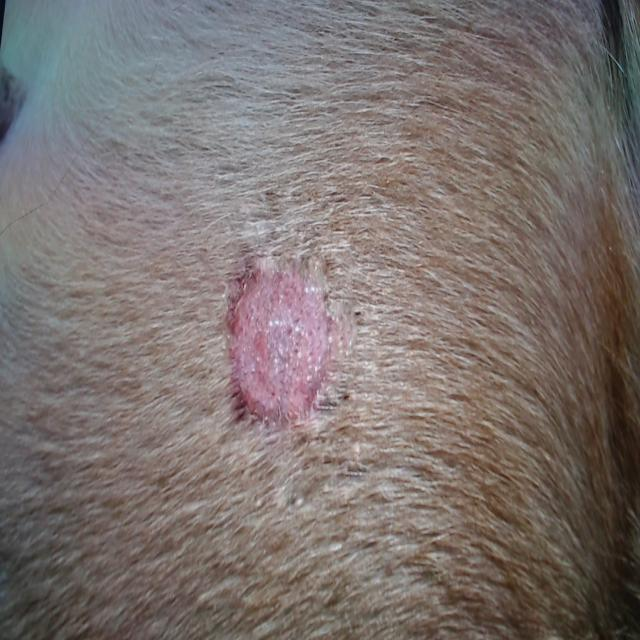ringworm: (221, 230, 353, 445)
